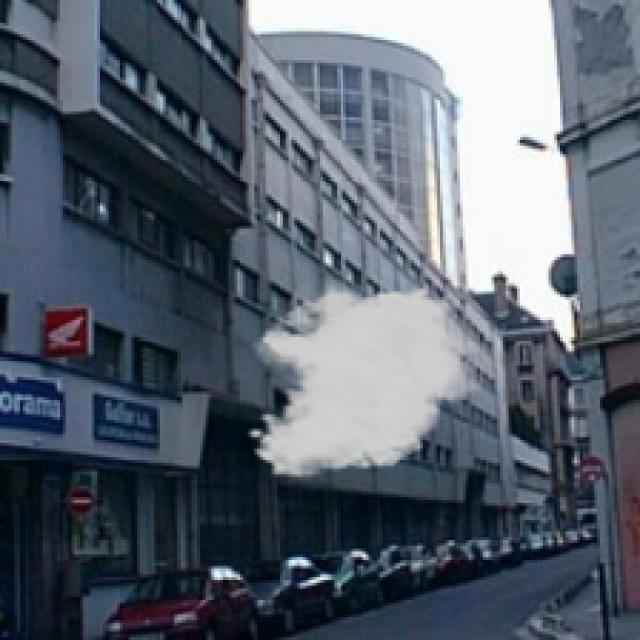Smoke: (246, 274, 488, 480)
